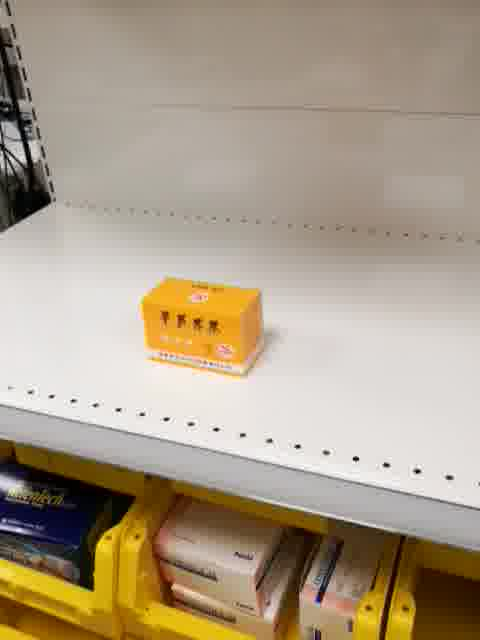jasminetea: (139, 274, 266, 381)
